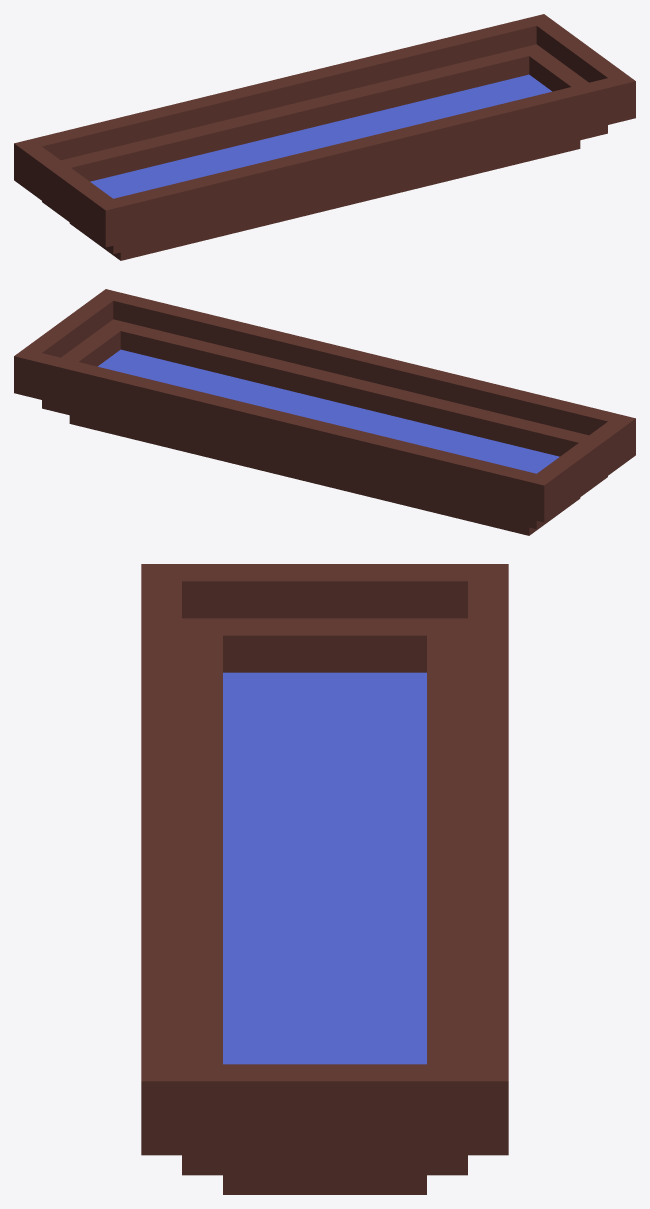
Rendered from water_reservouir.obj.
The picture shows the model from 3 angles, top to bottom: view 1: azimuth 30°, elevation 25°; view 2: azimuth 150°, elevation 25°; view 3: azimuth 270°, elevation 25°; orthographic projection. The views are drawn at different scales.
Bounding box in the file's own units: 3 × 0.4 × 0.9.
1 material, 1 textured.
